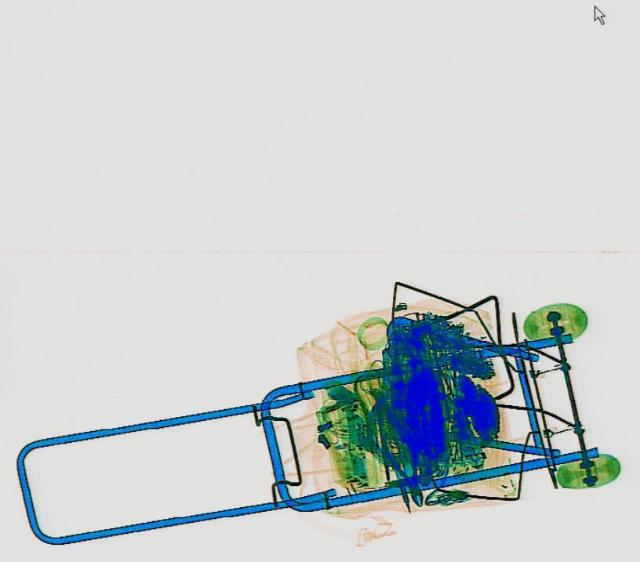Pliers: (363, 400, 437, 509)
